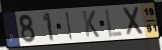1: (42, 11, 56, 43)
8: (19, 14, 37, 44)
I: (65, 10, 74, 41)
K: (81, 10, 101, 38)
L: (104, 8, 124, 39)
X: (122, 6, 146, 38)
